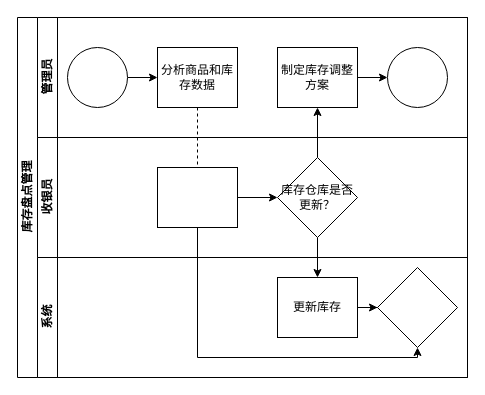
Image size: 485x395. Some labels were removed from this diagram. Each missing label, with the box of its shape:
库存盘点成功？: (376, 266, 458, 348)
接收商品入库: (66, 46, 128, 108)
方案提交审核: (386, 46, 448, 108)
核算库存: (156, 166, 238, 228)
